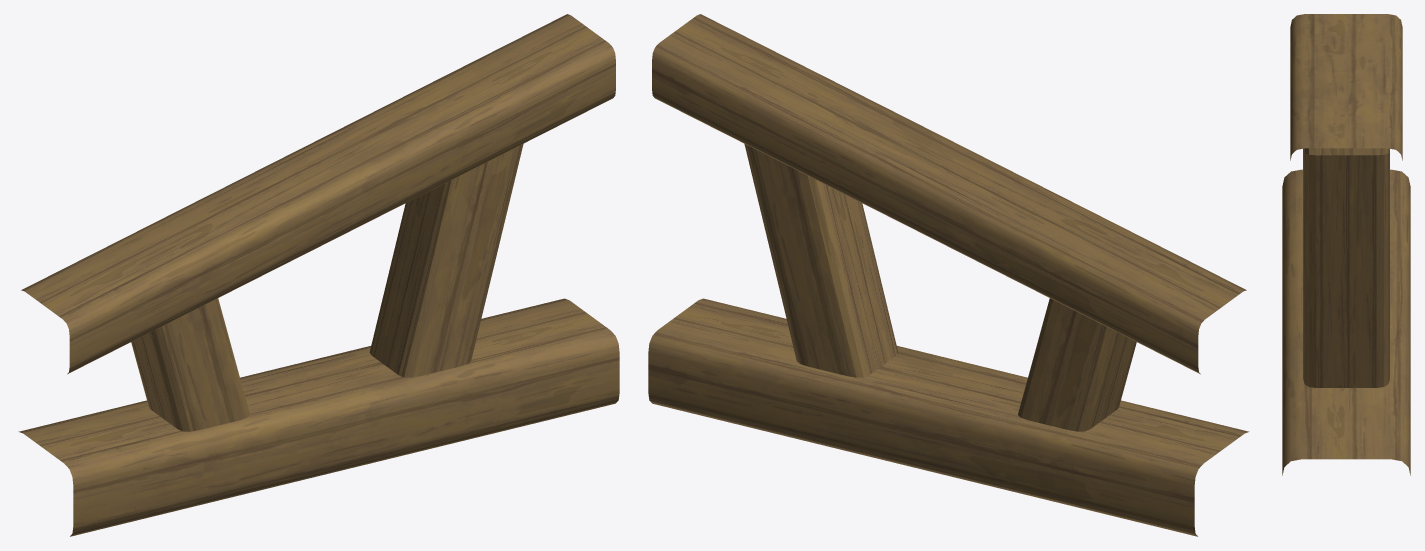
Rendered from SM_roof_frame_02.glb.
3 renders of one model, left to right at view 1: azimuth 30°, elevation 25°; view 2: azimuth 150°, elevation 25°; view 3: azimuth 270°, elevation 25°, orthographic. The views are drawn at different scales.
Visible parts, largest first — view 1: SM_roof_frame_02; view 2: SM_roof_frame_02; view 3: SM_roof_frame_02.
Boxes of the visible parts, x1,y1,x2,y2 form: SM_roof_frame_02: (18, 14, 619, 536); SM_roof_frame_02: (648, 14, 1249, 536); SM_roof_frame_02: (1282, 14, 1410, 475).
Size of the model in its own units: 3.2 by 2 by 0.6.
Materials: 1 (1 with a texture image).
